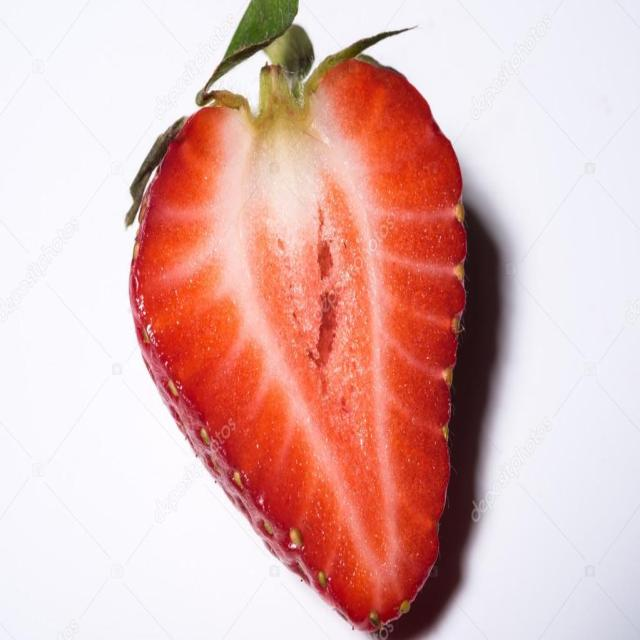strawberry: (112, 0, 477, 640)
